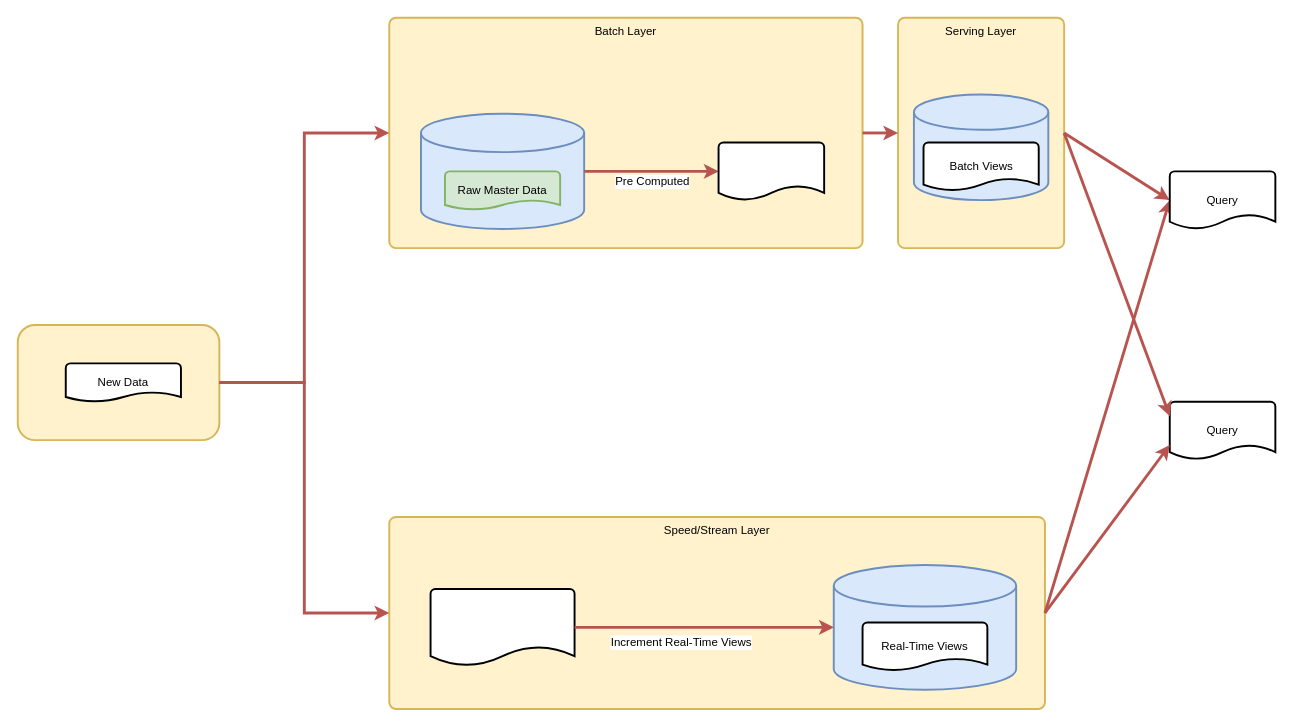
Some shapes in this 1292 by 726 pixel diagram are drawn without their labels. The shapes that lost their labels are listed below. From the top down, each one's centre as x and y in pixels, then its label:
At [771,171]: "Pre Computed Views".
At [502,627]: "Recent Data".
